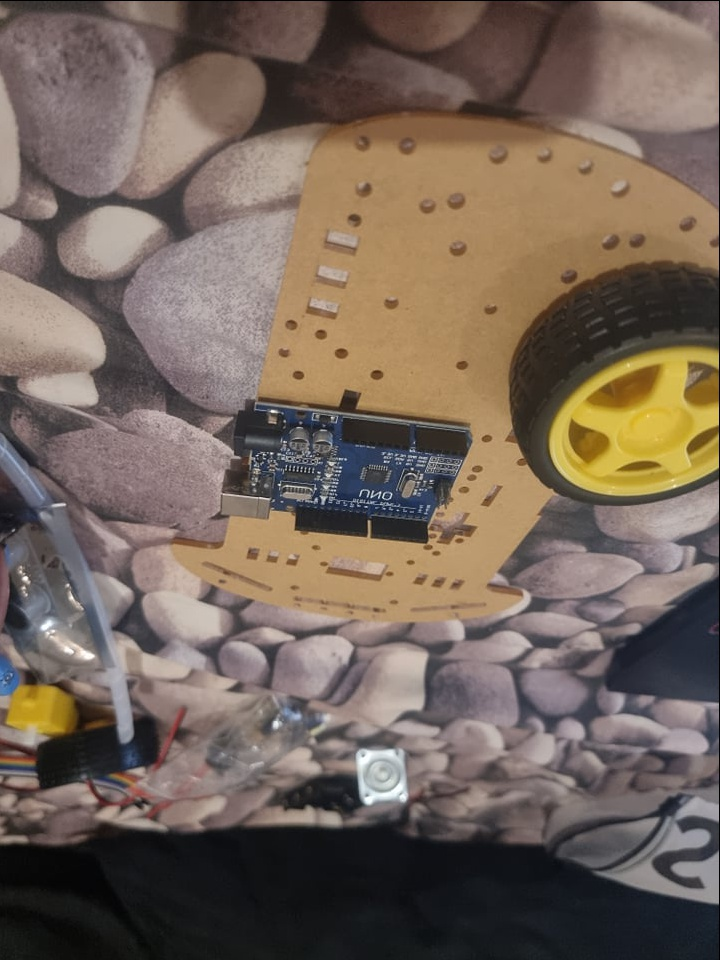5V EXPANSION: (220, 403, 480, 542)
BATTERY BOX: (280, 774, 361, 819)
